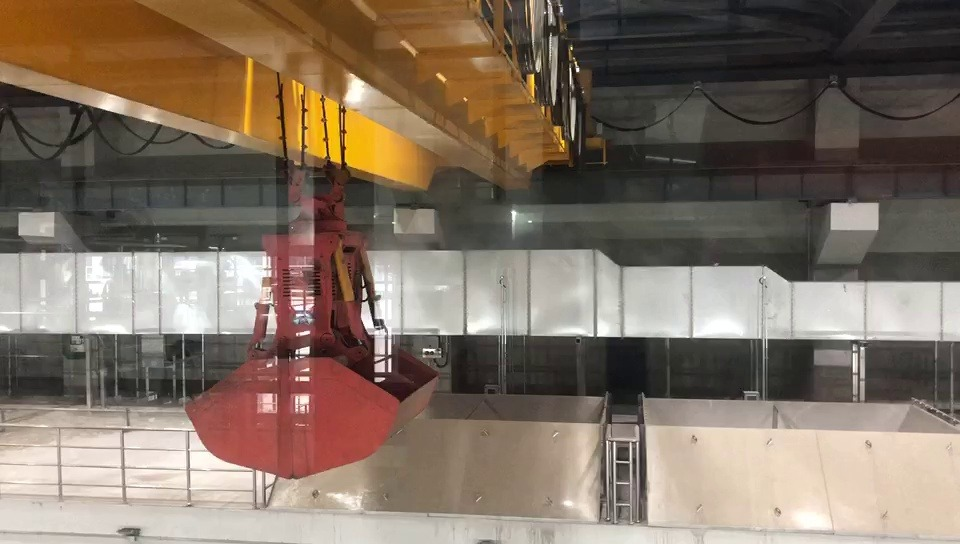grab: (180, 152, 440, 479)
